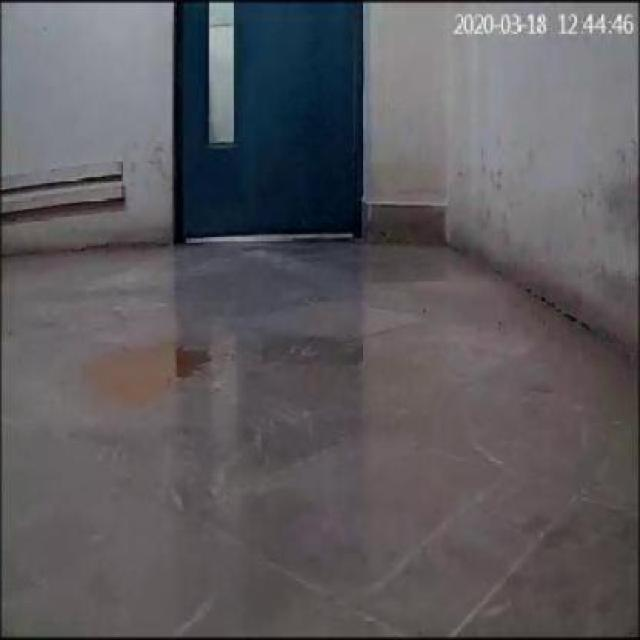spillage: (81, 344, 210, 406)
